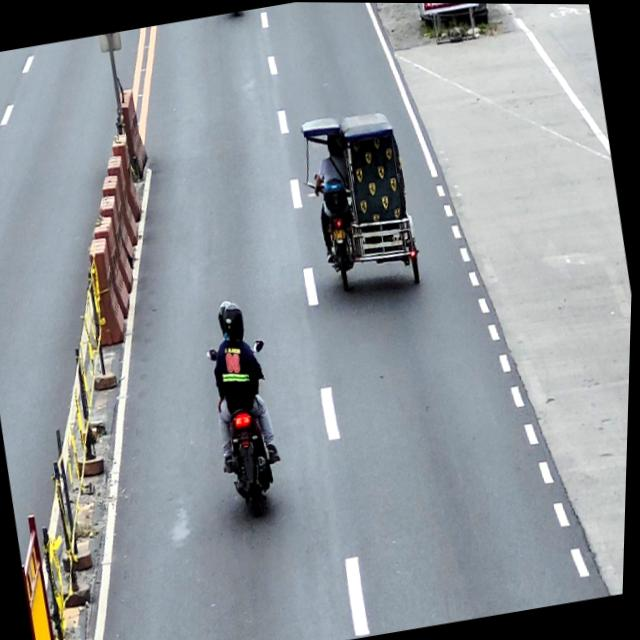License-Plate: (332, 227, 348, 240)
Motorcycle: (203, 338, 296, 523)
Tricycle: (298, 104, 428, 297)
